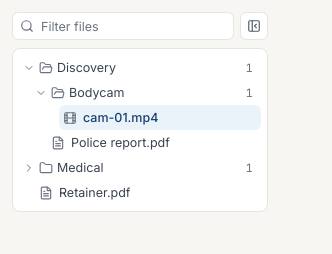
DocumentFileTree › folders open and close
The image size is (332, 254).
Click the button "Medical 1": (140, 168) [19,155,261,180]
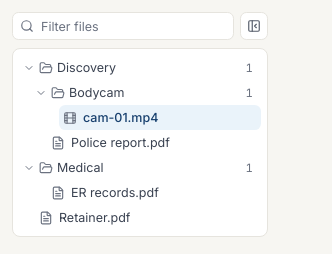
Click the button "Medical 1": (140, 168) [19,155,261,180]
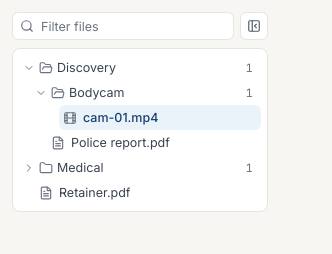
Expected: the link "ER records.pdf" is gone
